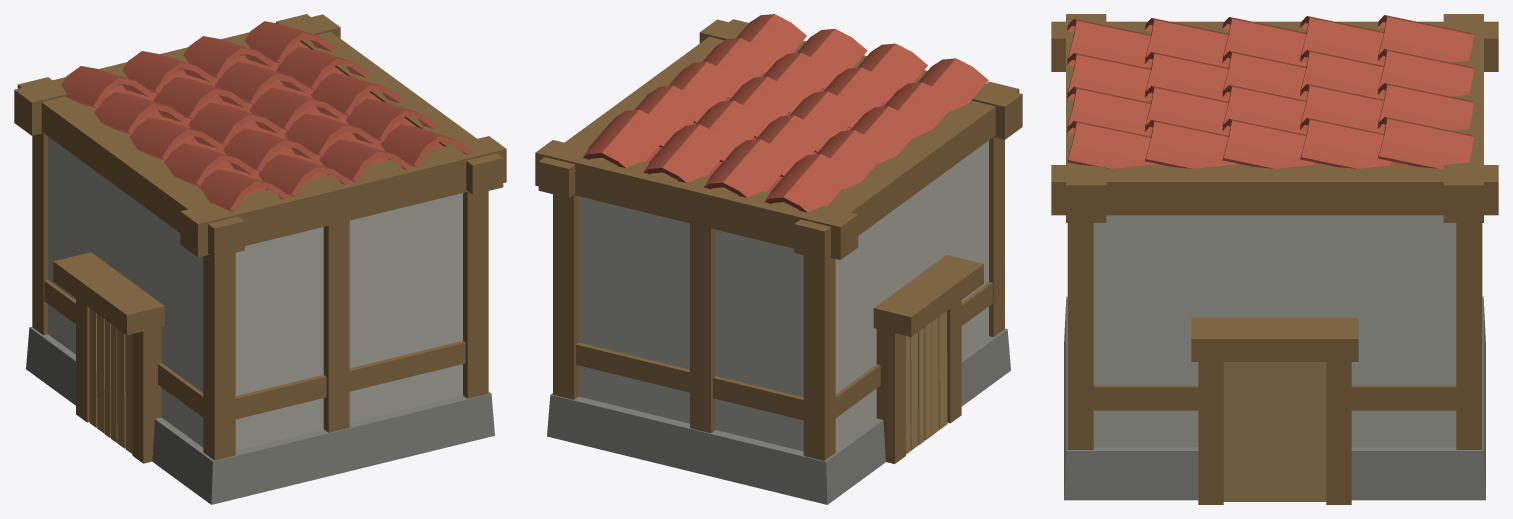
File: houses_secondage_3_level1.glb
3 views of the same model, side by side, from view 1: azimuth 30°, elevation 25°; view 2: azimuth 150°, elevation 25°; view 3: azimuth 270°, elevation 25° (orthographic). The views are drawn at different scales.
Parts seen in each view (by area): view 1: Houses_SecondAge_3_Level1; view 2: Houses_SecondAge_3_Level1; view 3: Houses_SecondAge_3_Level1.
Part boxes in pixels (x1=…): Houses_SecondAge_3_Level1: x1=14, y1=14, x2=506, y2=504; Houses_SecondAge_3_Level1: x1=535, y1=14, x2=1022, y2=504; Houses_SecondAge_3_Level1: x1=1051, y1=14, x2=1498, y2=504.
Size of the model in its own units: 0.6765 by 0.5909 by 0.6765.
